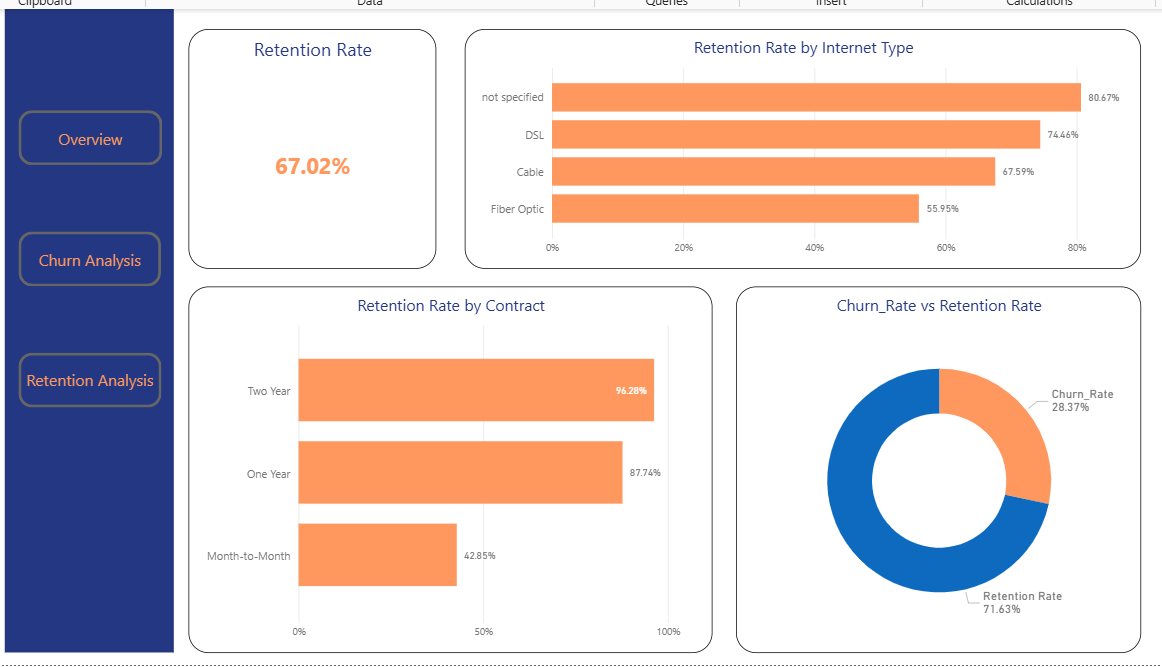

The page's visual inventory and layout, read from the dashboard file:
{"tool":"powerbi","page":{"name":"Retention Analysis","canvas":[1280,720],"ordinal":2},"visuals":[{"type":"textbox","box":[9.6,0,185.2,706.7],"z":0},{"type":"actionButton","box":[24.7,111.1,157.8,60.4],"z":1000},{"type":"actionButton","box":[24.7,244.3,156.4,60.4],"z":2000},{"type":"actionButton","box":[24.7,377.4,157,60],"z":3000},{"type":"cardVisual","title":"Retention Rate","fields":{"Data":["DAX_Measures.Retention Rate"]},"box":[211.3,22,271.7,263.5],"z":3001},{"type":"clusteredBarChart","fields":{"Y":["DAX_Measures.Retention Rate"],"Category":["telecom_customer_churn.Internet Type"]},"box":[514.6,22,742.4,263.5],"z":3002},{"type":"clusteredBarChart","fields":{"Category":["telecom_customer_churn.Contract"],"Y":["DAX_Measures.Retention Rate"]},"box":[211.3,304.6,575,402.1],"z":3003},{"type":"donutChart","title":"Churn_Rate vs Retention Rate","fields":{"Y":["DAX_Measures.Churn_Rate","DAX_Measures.Retention Rate"]},"box":[812.4,304.6,444.6,402.1],"z":3004}]}

Visuals, with their boxes in screenshot pixels (x1, y1, x2, y2):
textbox: (3, 12, 168, 645)
actionButton: (16, 112, 157, 166)
actionButton: (16, 231, 156, 285)
actionButton: (16, 350, 157, 404)
"Retention Rate" cardVisual: (183, 32, 426, 268)
clusteredBarChart - DAX_Measures.Retention Rate x telecom_customer_churn.Internet Type: (455, 32, 1119, 268)
clusteredBarChart - telecom_customer_churn.Contract x DAX_Measures.Retention Rate: (183, 285, 698, 645)
"Churn_Rate vs Retention Rate" donutChart: (721, 285, 1119, 645)
